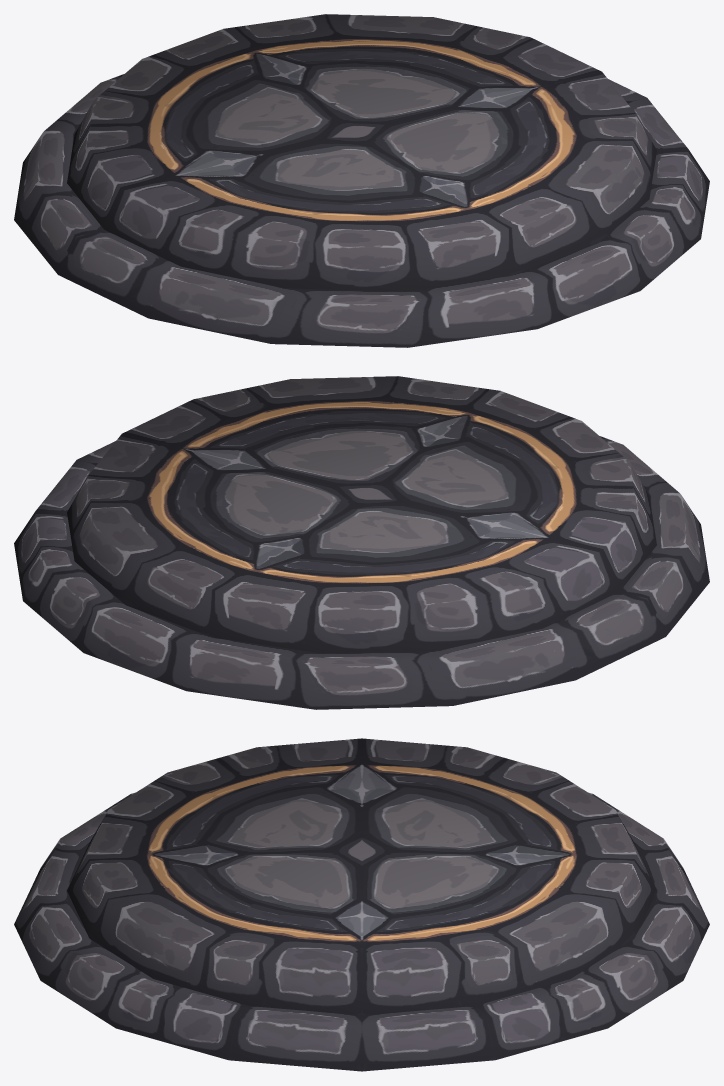
Rendered from SM_PROP_platform_dungeon.fbx.
3 views of the same model, one above another, from view 1: azimuth 30°, elevation 25°; view 2: azimuth 150°, elevation 25°; view 3: azimuth 270°, elevation 25° (orthographic).
Visible parts, largest first — view 1: SM_PROP_platform_dungeon; view 2: SM_PROP_platform_dungeon; view 3: SM_PROP_platform_dungeon.
Boxes of the visible parts, x1,y1,x2,y2 form: SM_PROP_platform_dungeon: (14, 14, 709, 347); SM_PROP_platform_dungeon: (14, 376, 709, 709); SM_PROP_platform_dungeon: (14, 738, 709, 1071).
Size of the model in its own units: 200 by 22.15 by 200.
